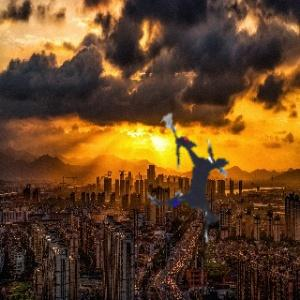drone: (95, 81, 293, 279)
